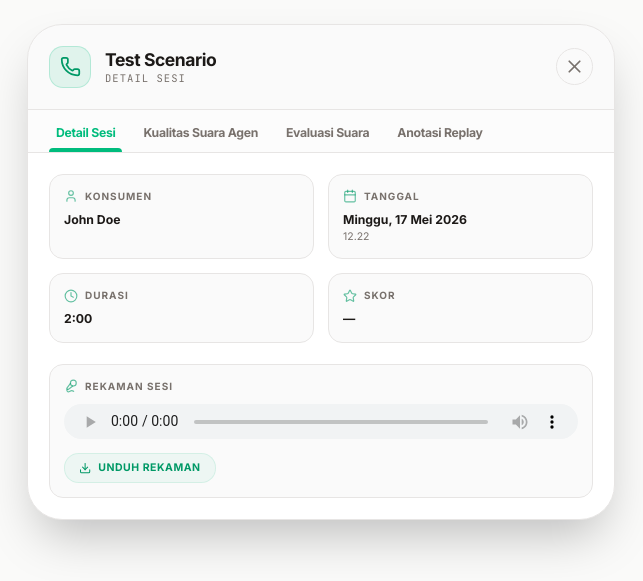
Test case: ReviewModal Integration › preserves partial replay data while showing regeneration error, then recovers on retry
# Click Replay Tab
Click the button "Anotasi Replay" at (440, 138), box [390, 124, 490, 152]
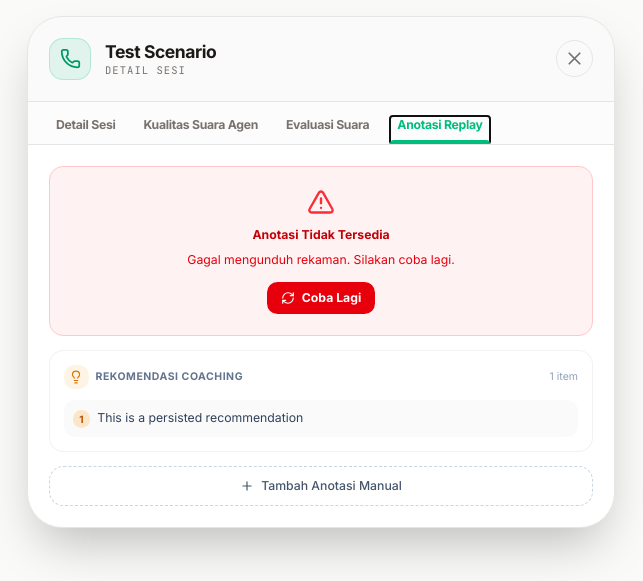
Check: the text "Gagal mengunduh rekaman. Silakan coba lagi." is shown, box [187, 252, 455, 267]
Check: the text "This is a persisted recommendation" is shown, box [97, 409, 303, 426]
# Click Retry Button
Click the button "Coba Lagi" at (321, 298), box [267, 282, 375, 314]
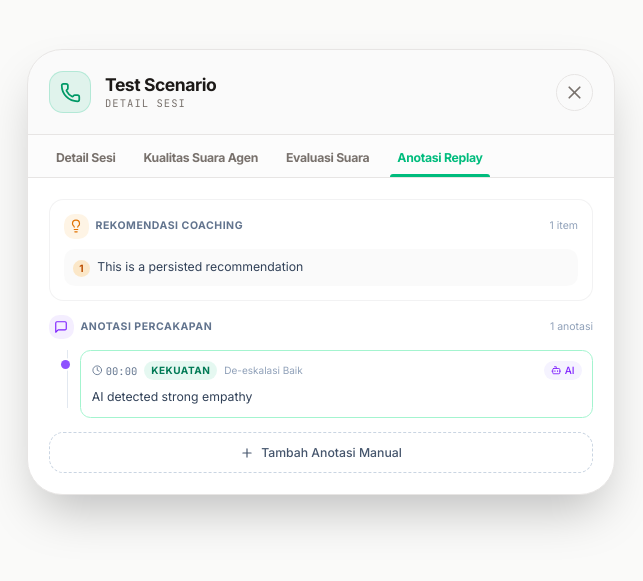
Check: the text "This is a persisted recommendation" is shown, box [97, 258, 303, 275]
Check: the text "Gagal mengunduh rekaman. Silakan coba lagi." is gone
Check: the text "AI detected strong empathy" is shown, box [92, 389, 252, 404]
